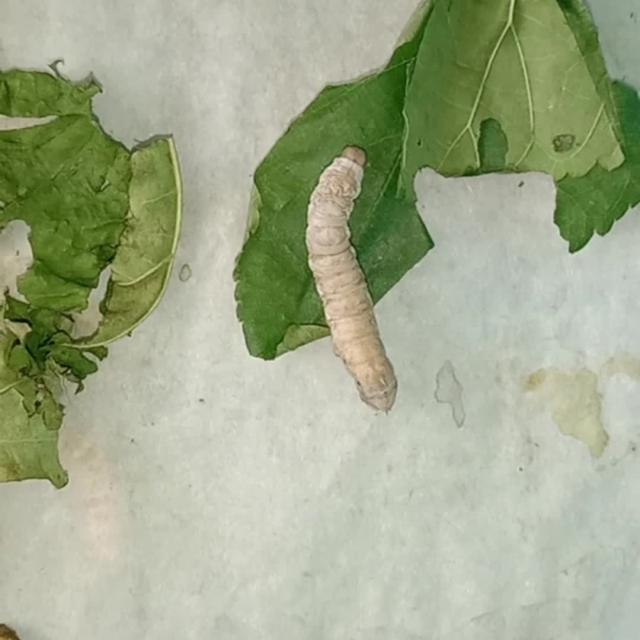Grasserie: (257, 113, 439, 442)
